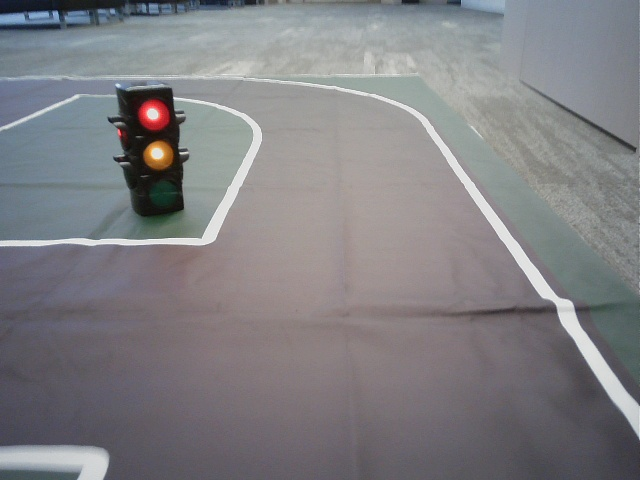red: (131, 95, 180, 210)
